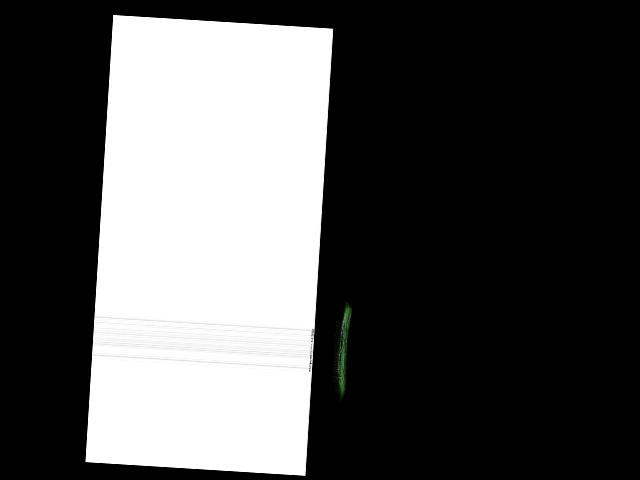cucumber: (330, 299, 351, 403)
